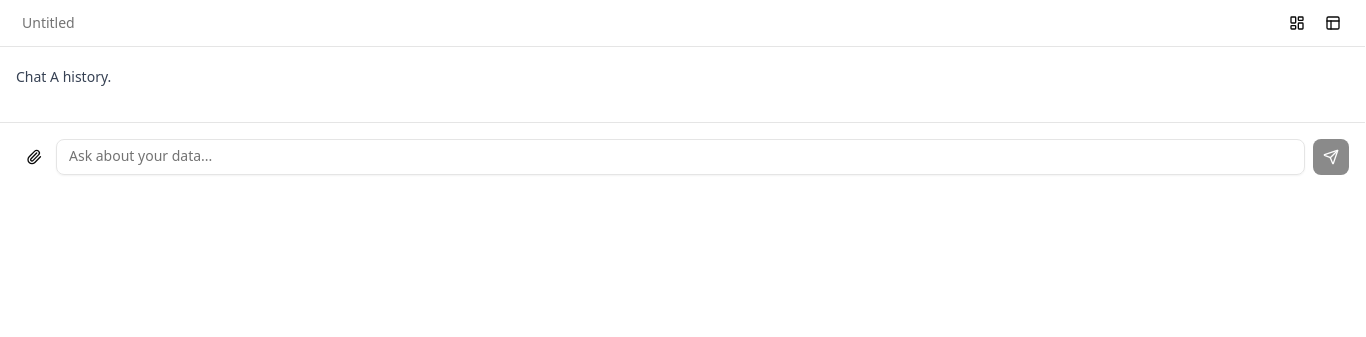
Scenario: concurrent chat threads (#847) › keeps a turn left in another workspace out of the new one
This screenshot has width=1366, height=337.
Expected: the text "Chat A history." is shown, [16,67,111,87]
Type "run recipe X" into the text box. click: (680, 157)
box: [56,139,1305,175]
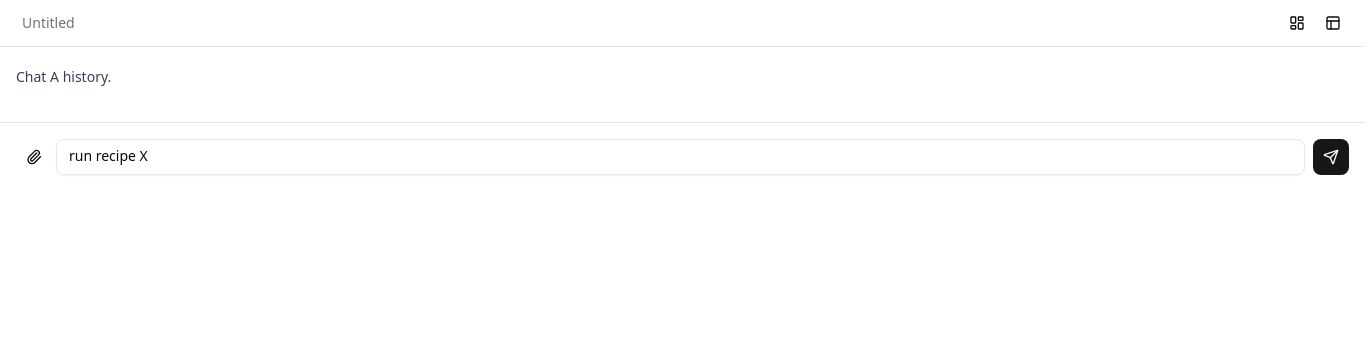
Click the button named "Send message". click: click(1331, 157)
box: [1313,139,1349,175]
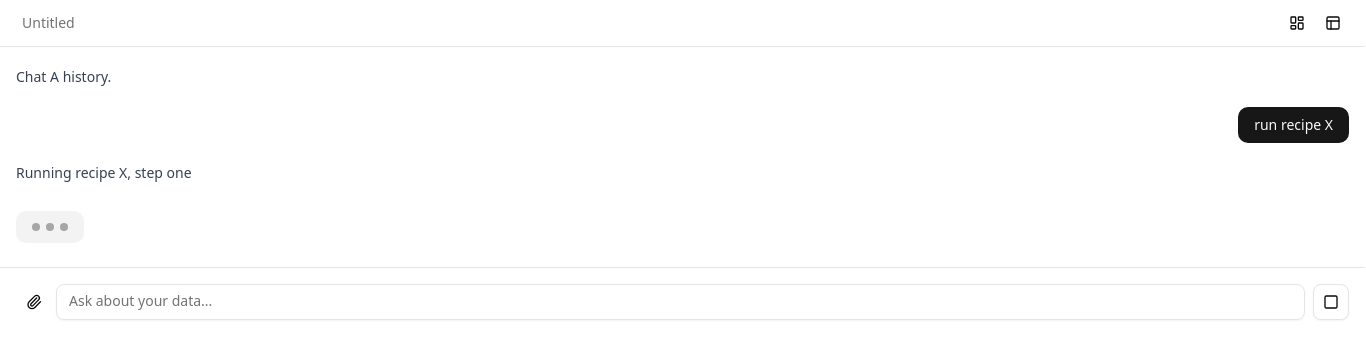
Expected: the text "Running recipe X, step one" is shown, [16,163,192,183]
